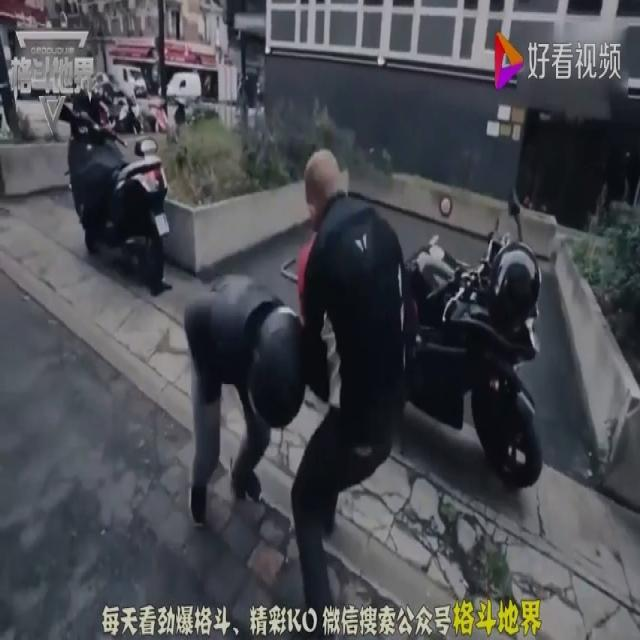fight: (184, 146, 405, 636)
